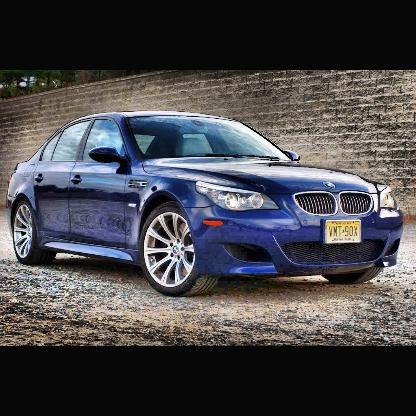BMW M5 Sedan 2010: (9, 111, 406, 299)
